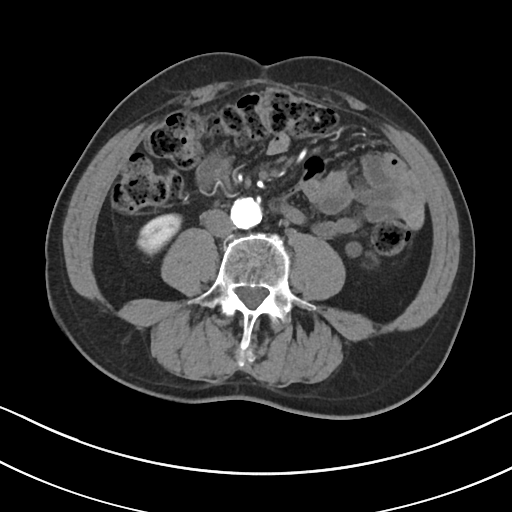Lesion: (340, 237, 366, 263)
